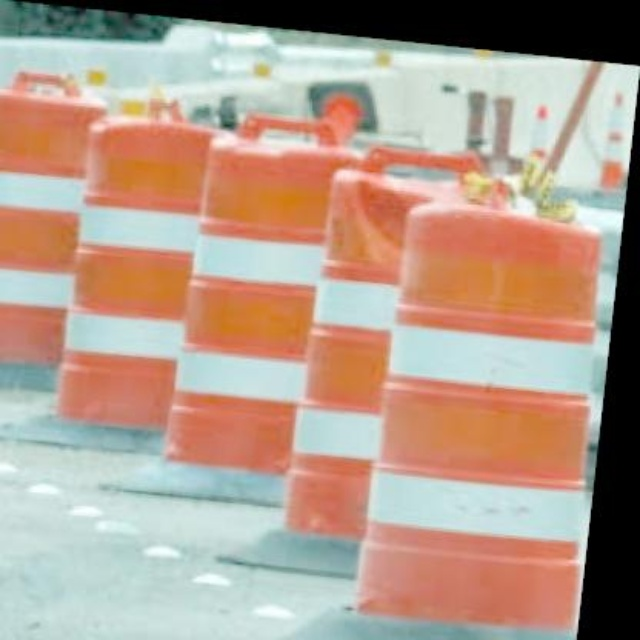obstacle: (372, 173, 627, 623), (181, 130, 345, 476), (55, 114, 208, 432)
